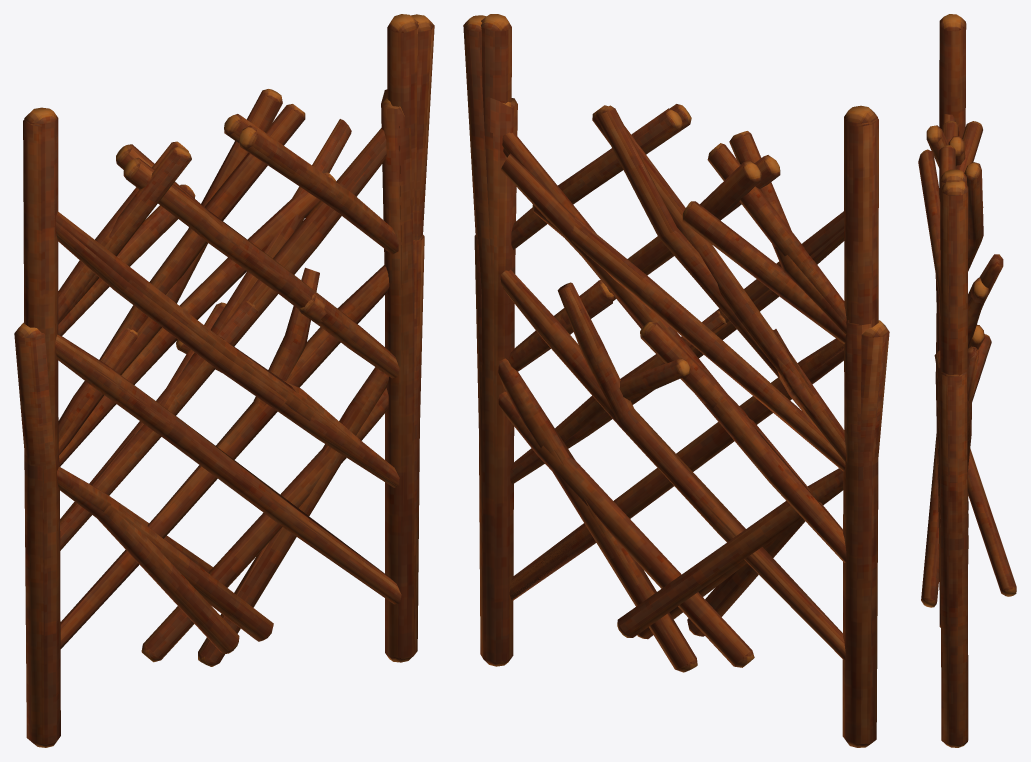
Rendered from chLatticeFence.fbx.
3 renders of one model, left to right at view 1: azimuth 30°, elevation 25°; view 2: azimuth 150°, elevation 25°; view 3: azimuth 270°, elevation 25°, orthographic. The views are drawn at different scales.
Visible parts, largest first — view 1: Fence_LatticeBroke, Fence_Lattice, Fence_LatShort.003, Fence_Lattice.002, Fence_Lattice.001, Fence_LatShort, Fence_Lattice.003, Fence_Lattice.004, Fence_LatShort.002, Fence_LatShort.001, LODLATB, LODLAT; view 2: Fence_LatticeBroke, Fence_Lattice, Fence_Lattice.002, Fence_LatShort.003, Fence_LatShort, Fence_LatShort.001, Fence_Lattice.001, Fence_Lattice.003, Fence_LatShort.002, LODLAT, LODLATB, Fence_Lattice.004 (+1 smaller); view 3: Fence_LatShort.002, Fence_Lattice.001, Fence_Lattice.002, Fence_Lattice, Fence_LatShort.003, Fence_LatticeBroke, Fence_Lattice.003, Fence_LatShort, LODLAT.
Part boxes in pixels (<box>): Fence_LatticeBroke: <box>23,89,414,747</box>; Fence_Lattice: <box>24,14,418,455</box>; Fence_LatShort.003: <box>14,267,319,747</box>; Fence_Lattice.002: <box>24,89,351,747</box>; Fence_Lattice.001: <box>116,14,434,661</box>; Fence_LatShort: <box>24,239,416,746</box>; Fence_Lattice.003: <box>55,211,401,647</box>; Fence_Lattice.004: <box>141,388,388,662</box>; Fence_LatShort.002: <box>176,235,424,661</box>; Fence_LatShort.001: <box>56,328,319,661</box>; LODLATB: <box>61,106,403,647</box>; LODLAT: <box>61,184,399,624</box>; Fence_LatticeBroke: <box>486,97,878,672</box>; Fence_Lattice: <box>481,14,877,661</box>; Fence_Lattice.002: <box>501,105,877,747</box>; Fence_LatShort.003: <box>557,282,889,740</box>; Fence_LatShort: <box>482,280,878,747</box>; Fence_LatShort.001: <box>498,330,846,667</box>; Fence_Lattice.001: <box>463,15,761,666</box>; Fence_Lattice.003: <box>500,211,844,616</box>; Fence_LatShort.002: <box>474,235,690,665</box>; LODLAT: <box>513,132,844,651</box>; LODLATB: <box>487,98,845,662</box>; Fence_Lattice.004: <box>499,393,754,666</box>; Fence_LatShort.002: <box>934,334,991,745</box>; Fence_Lattice.001: <box>918,121,982,747</box>; Fence_Lattice.002: <box>926,15,1016,596</box>; Fence_Lattice: <box>939,14,968,740</box>; Fence_LatShort.003: <box>921,324,984,607</box>; Fence_LatticeBroke: <box>935,23,988,745</box>; Fence_Lattice.003: <box>936,114,970,613</box>; Fence_LatShort: <box>938,368,970,747</box>; LODLAT: <box>936,117,952,602</box>.
Bounding box in the file's own units: 0.4924 × 2.15 × 3.16.
